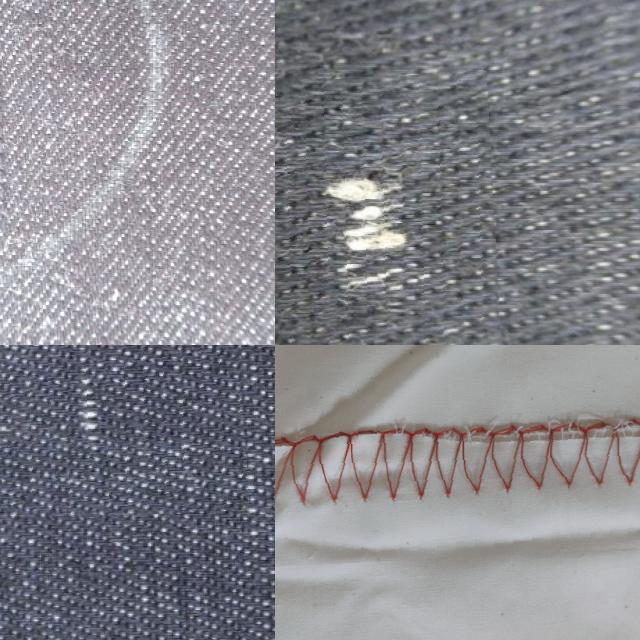Thread_out: (275, 355, 640, 564)
stains: (275, 72, 499, 345), (0, 345, 246, 519)
